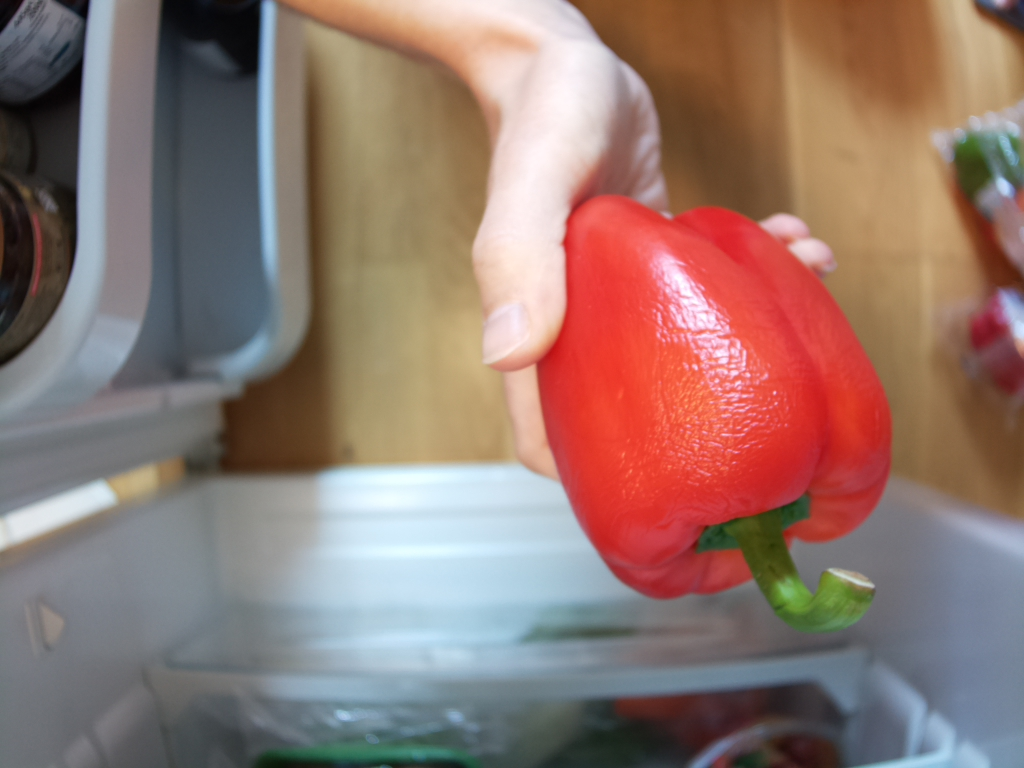pepper-bad: (529, 183, 911, 644)
